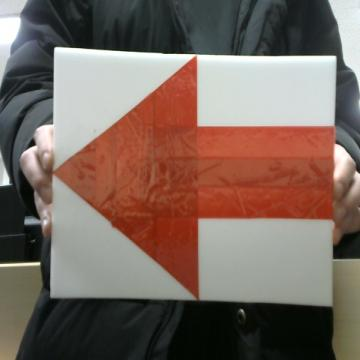red_left: (53, 56, 334, 299)
